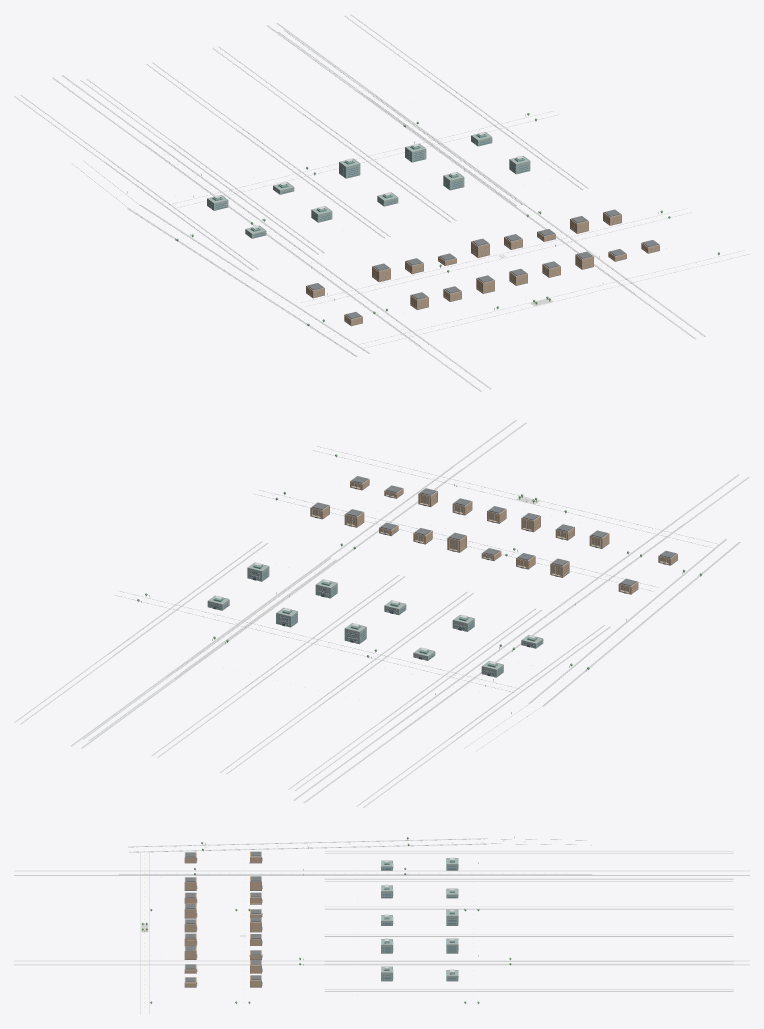
File: detail-sector-w.glb
The picture shows the model from 3 angles, top to bottom: view 1: azimuth 30°, elevation 25°; view 2: azimuth 150°, elevation 25°; view 3: azimuth 270°, elevation 25°; orthographic projection. The views are drawn at different scales.
Parts seen in each view (by area): view 1: trim_light, curb, facade_old, facade_canal, v4_arch_w_arch_roof, trim_dark; view 2: trim_light, curb, facade_old, facade_canal, v4_arch_w_arch_roof, v4_arch_w_arch_light, v4_arch_w_arch_warm, trim_dark; view 3: trim_light, road_white, facade_old, facade_canal, curb, v4_arch_w_arch_roof, v4_arch_w_arch_canal, v4_arch_w_arch_warm, glass_blue.
Boxes of the visible parts, x1,y1,x2,y2 form: trim_light: (14, 14, 705, 391); curb: (71, 80, 749, 356); facade_old: (306, 212, 659, 325); facade_canal: (207, 132, 529, 238); v4_arch_w_arch_roof: (307, 209, 658, 318); trim_dark: (207, 141, 659, 326); trim_light: (14, 420, 749, 807); curb: (108, 446, 738, 751); facade_old: (310, 479, 677, 594); facade_canal: (208, 563, 542, 676); v4_arch_w_arch_roof: (312, 476, 676, 586); v4_arch_w_arch_light: (210, 483, 668, 674); v4_arch_w_arch_warm: (311, 480, 677, 593); trim_dark: (208, 477, 677, 677); trim_light: (14, 838, 749, 991); road_white: (14, 839, 749, 1007); facade_old: (185, 852, 261, 987); facade_canal: (381, 858, 457, 980); curb: (119, 839, 591, 1014); v4_arch_w_arch_roof: (185, 851, 260, 981); v4_arch_w_arch_canal: (381, 858, 458, 980); v4_arch_w_arch_warm: (185, 853, 262, 986); glass_blue: (382, 861, 456, 980).
Bounding box in the file's own units: 1275 × 42.17 × 2250.
